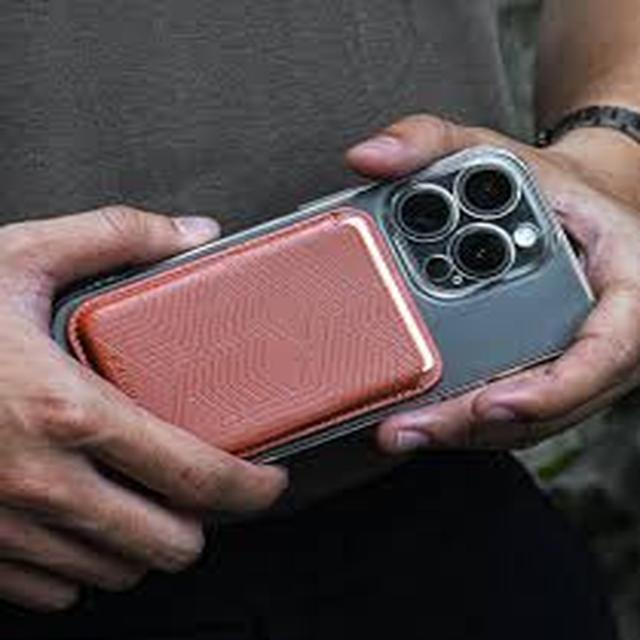card: (24, 210, 447, 469)
